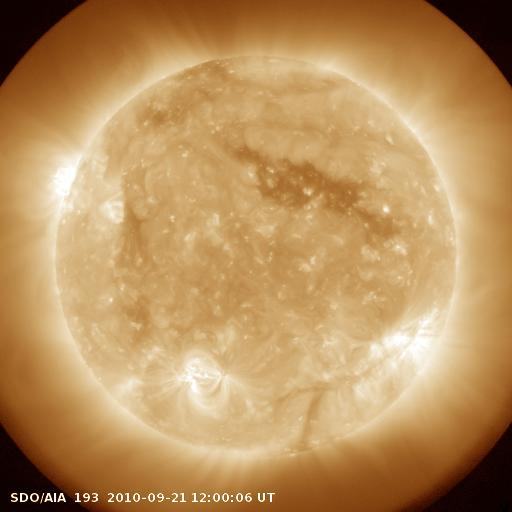coronal_hole: (234, 147, 391, 233)
